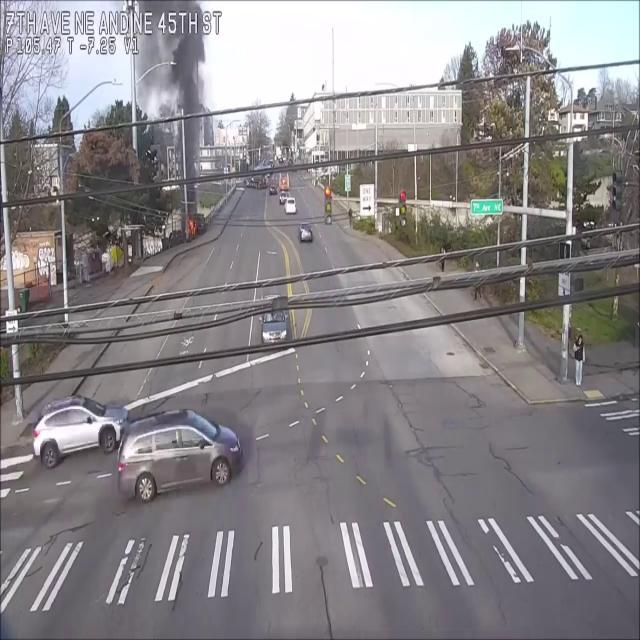Smoke: (132, 1, 220, 210)
